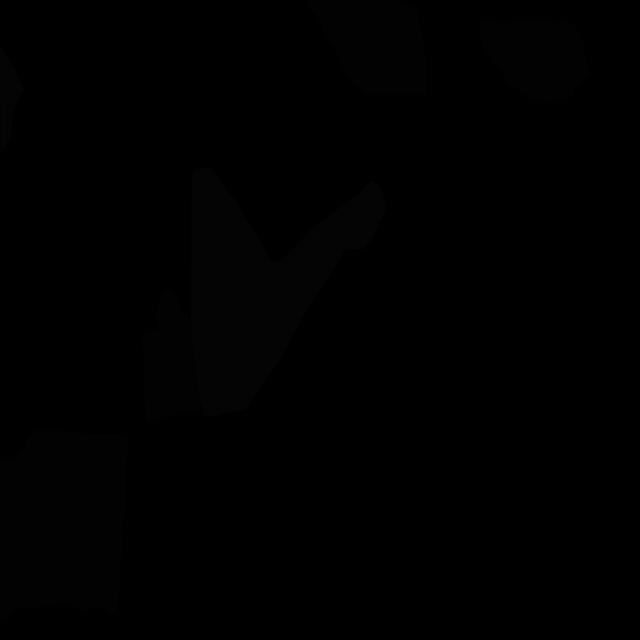cardboard: (0, 430, 128, 619), (308, 0, 427, 97), (478, 18, 590, 104), (142, 288, 200, 422)
soft_plastic: (191, 167, 386, 417), (0, 44, 24, 156)
